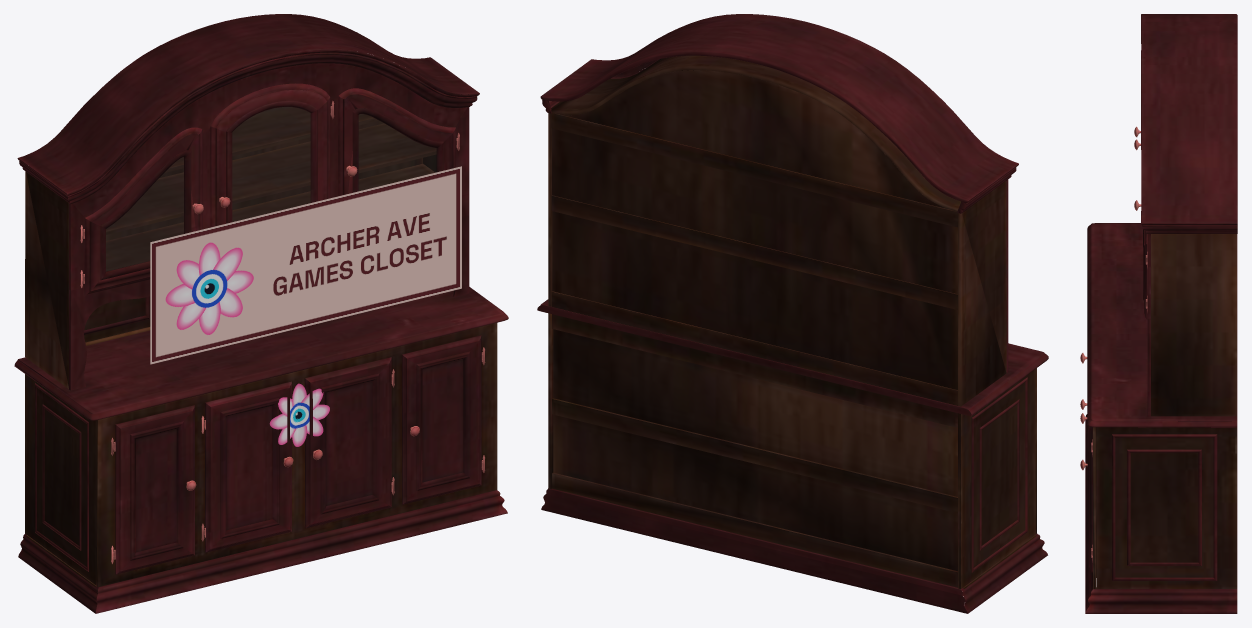
File: nyb_tenen_games.glb
3 views of the same model, side by side, from view 1: azimuth 30°, elevation 25°; view 2: azimuth 150°, elevation 25°; view 3: azimuth 270°, elevation 25° (orthographic). The views are drawn at different scales.
Visible parts, largest first — view 1: vintage_cabinet_01_body, add_lbl_868f0c492e.png, stk_eyeflower.png; view 2: vintage_cabinet_01_body; view 3: vintage_cabinet_01_body.
Boxes of the visible parts, <box> form: vintage_cabinet_01_body: <box>14,14,508,613</box>; add_lbl_868f0c492e.png: <box>150,166,461,364</box>; stk_eyeflower.png: <box>269,383,329,446</box>; vintage_cabinet_01_body: <box>537,14,1048,613</box>; vintage_cabinet_01_body: <box>1080,14,1237,613</box>.
Size of the model in its own units: 2.02 by 2.23 by 0.6832.
Materials: 5 (4 with a texture image).
